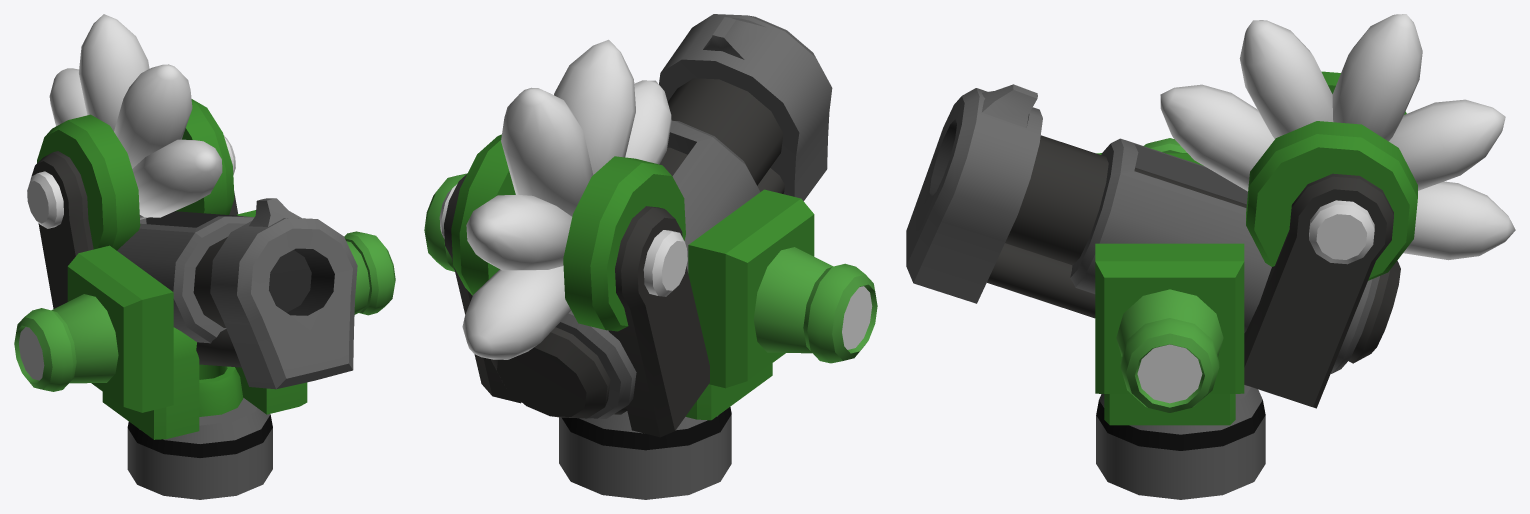
The model's file is Weapon_t_2_LP.fbx.
The picture shows the model from 3 angles, left to right: view 1: azimuth 30°, elevation 25°; view 2: azimuth 150°, elevation 25°; view 3: azimuth 270°, elevation 25°; orthographic projection. The views are drawn at different scales.
Parts seen in each view (by area): view 1: \Weapon_t_2_Gun, \Weapon_t_2_Base, \Weapon_t_2; view 2: \Weapon_t_2_Gun, \Weapon_t_2, \Weapon_t_2_Base; view 3: \Weapon_t_2_Gun, \Weapon_t_2, \Weapon_t_2_Base.
Boxes of the visible parts, x1,y1,x2,y2 form: \Weapon_t_2_Gun: [14, 99, 395, 391]; \Weapon_t_2_Base: [67, 210, 307, 499]; \Weapon_t_2: [27, 14, 235, 228]; \Weapon_t_2_Gun: [424, 14, 877, 437]; \Weapon_t_2: [439, 39, 687, 359]; \Weapon_t_2_Base: [559, 189, 814, 499]; \Weapon_t_2_Gun: [906, 71, 1417, 412]; \Weapon_t_2: [1160, 14, 1515, 264]; \Weapon_t_2_Base: [1095, 153, 1265, 499].
Bounding box in the file's own units: 123 × 129 × 158.
